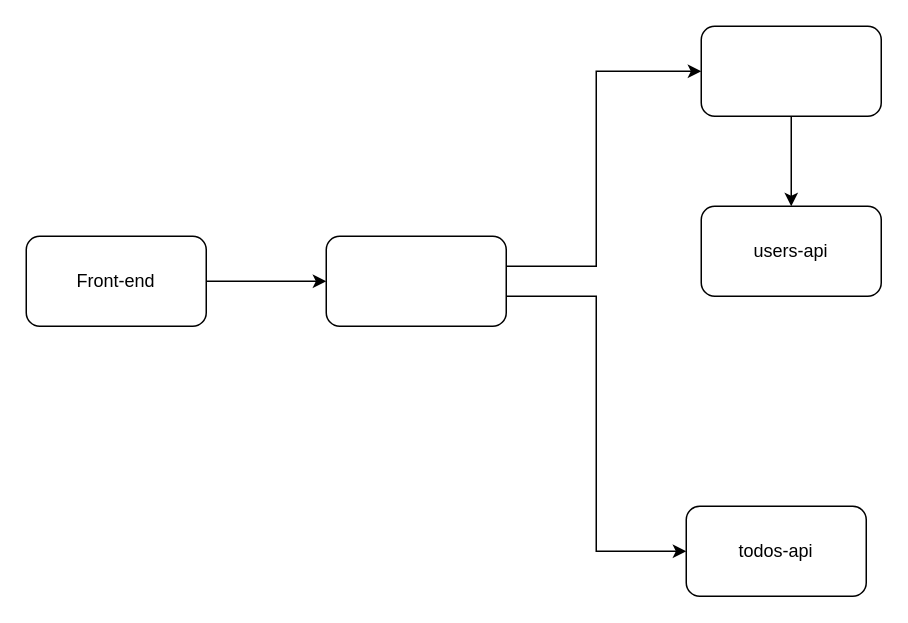
Image size: 908x623. Some labels were removed from this diagram. Here are the shapes that lost their labels. From the top down, the centre of each, then its label:
At point (790, 70): "auth-api".
At point (415, 280): "api-gateway (Nginx)".
